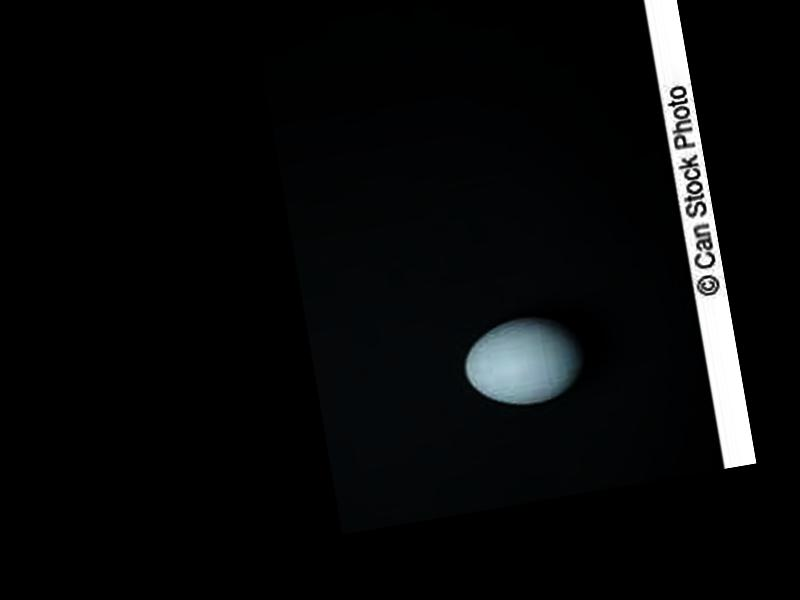Eggs: (457, 308, 591, 417)
